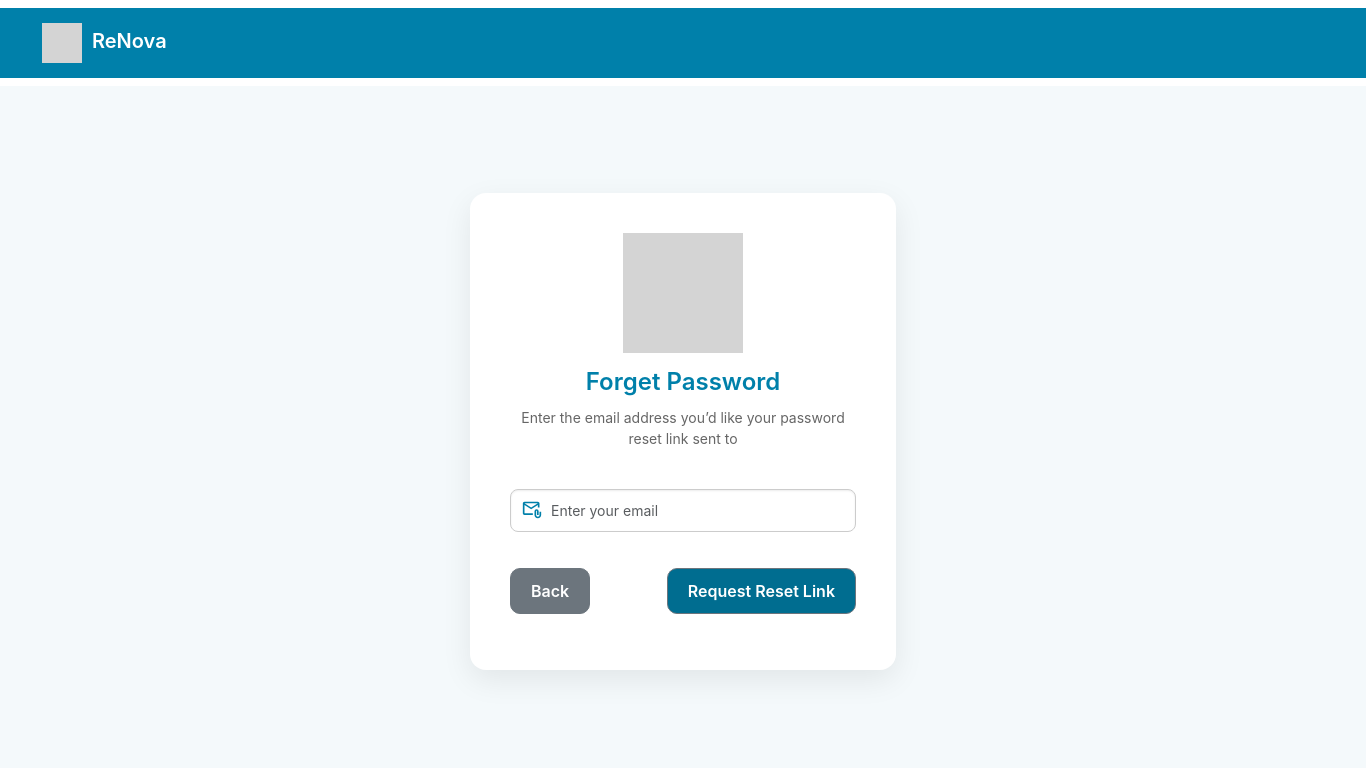
Scenario: ForgetPassword Component › shows validation error for empty email
The width and height of the screenshot is (1366, 768).
Click the button "Request Reset Link" at (761, 591), box [667,568,856,614]
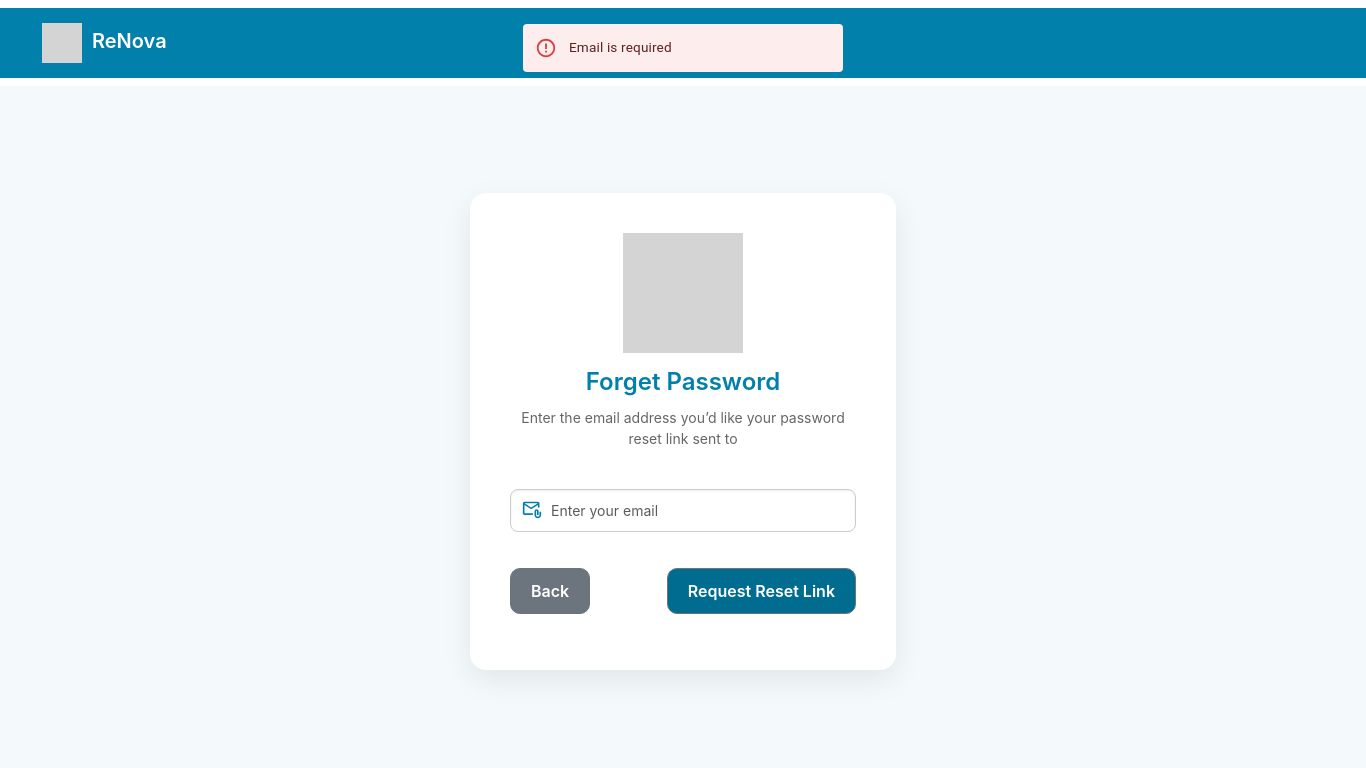
Result: the text "Email is required" is shown at [569,39,672,55]
